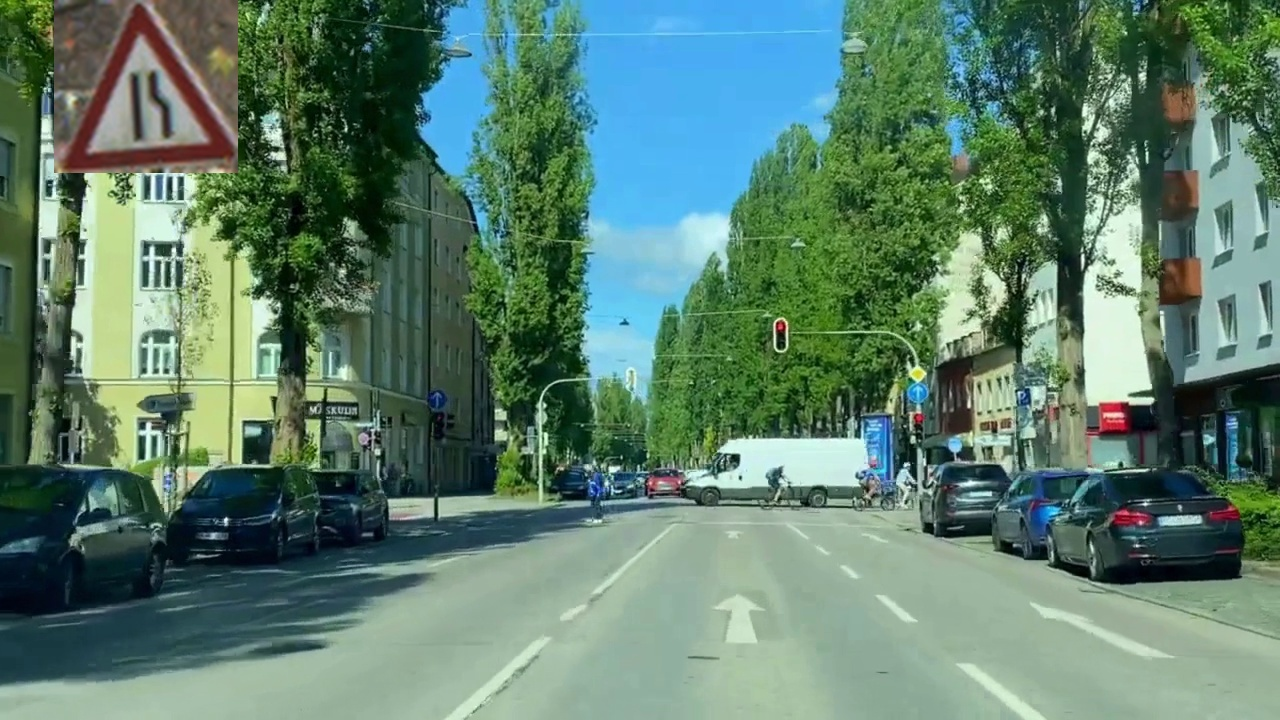Road narrows: (54, 0, 238, 173)
